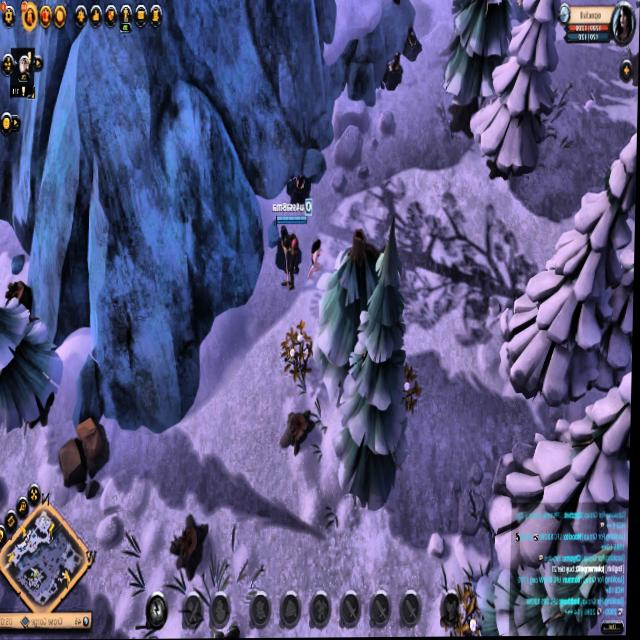copper_ore: (380, 46, 405, 96), (403, 25, 423, 62)
cotton: (437, 590, 490, 637), (272, 324, 321, 368), (404, 356, 424, 417)
limestone: (58, 421, 119, 494)
